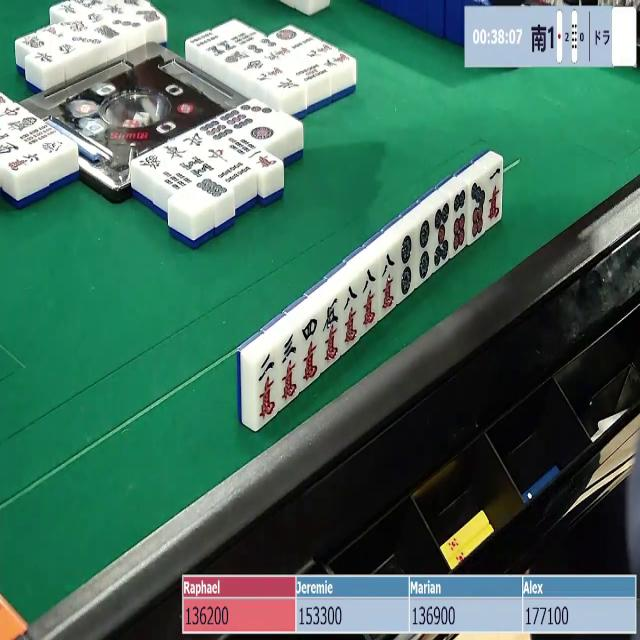m1: (488, 163, 502, 226)
m2: (252, 348, 284, 424)
m3: (278, 330, 304, 403)
m4: (298, 316, 326, 386)
m5: (321, 298, 347, 366)
m8: (340, 282, 364, 347), (378, 249, 400, 315), (359, 264, 380, 330)
t2: (396, 232, 416, 301), (416, 218, 434, 285)
t5: (431, 203, 451, 272)
t6: (451, 188, 469, 256)
t7: (468, 180, 487, 243)
